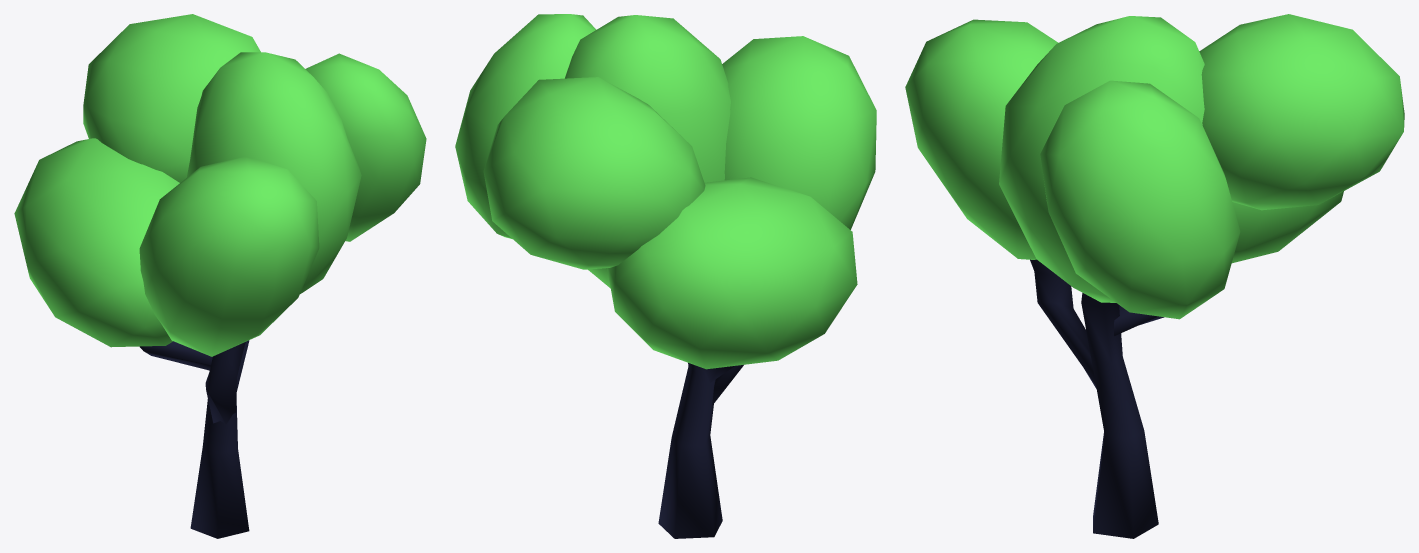
Rendered from Tree.fbx.
3 views of the same model, side by side, from view 1: azimuth 30°, elevation 25°; view 2: azimuth 150°, elevation 25°; view 3: azimuth 270°, elevation 25° (orthographic). The views are drawn at different scales.
Visible parts, largest first — view 1: TreeTrunkBush; view 2: TreeTrunkBush; view 3: TreeTrunkBush.
Part boxes in pixels (<box>): TreeTrunkBush: <box>14,14,426,538</box>; TreeTrunkBush: <box>455,14,876,538</box>; TreeTrunkBush: <box>905,14,1404,538</box>.
Size of the model in its own units: 435 by 543 by 459.
